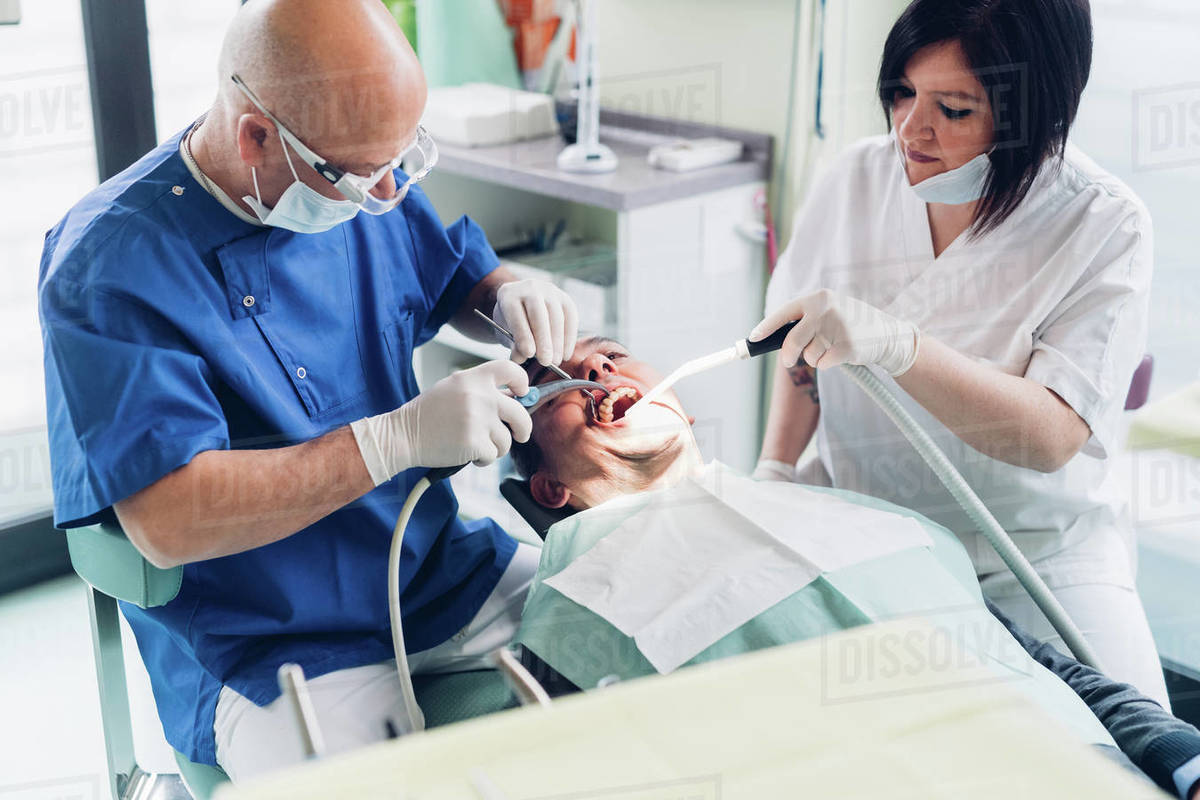mask_weared_incorrect: (882, 37, 1015, 214)
